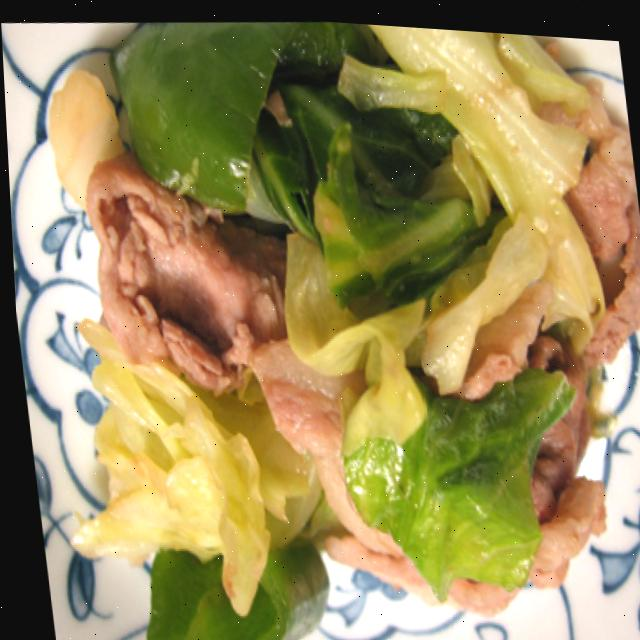蔬菜料理: (13, 1, 640, 640)
